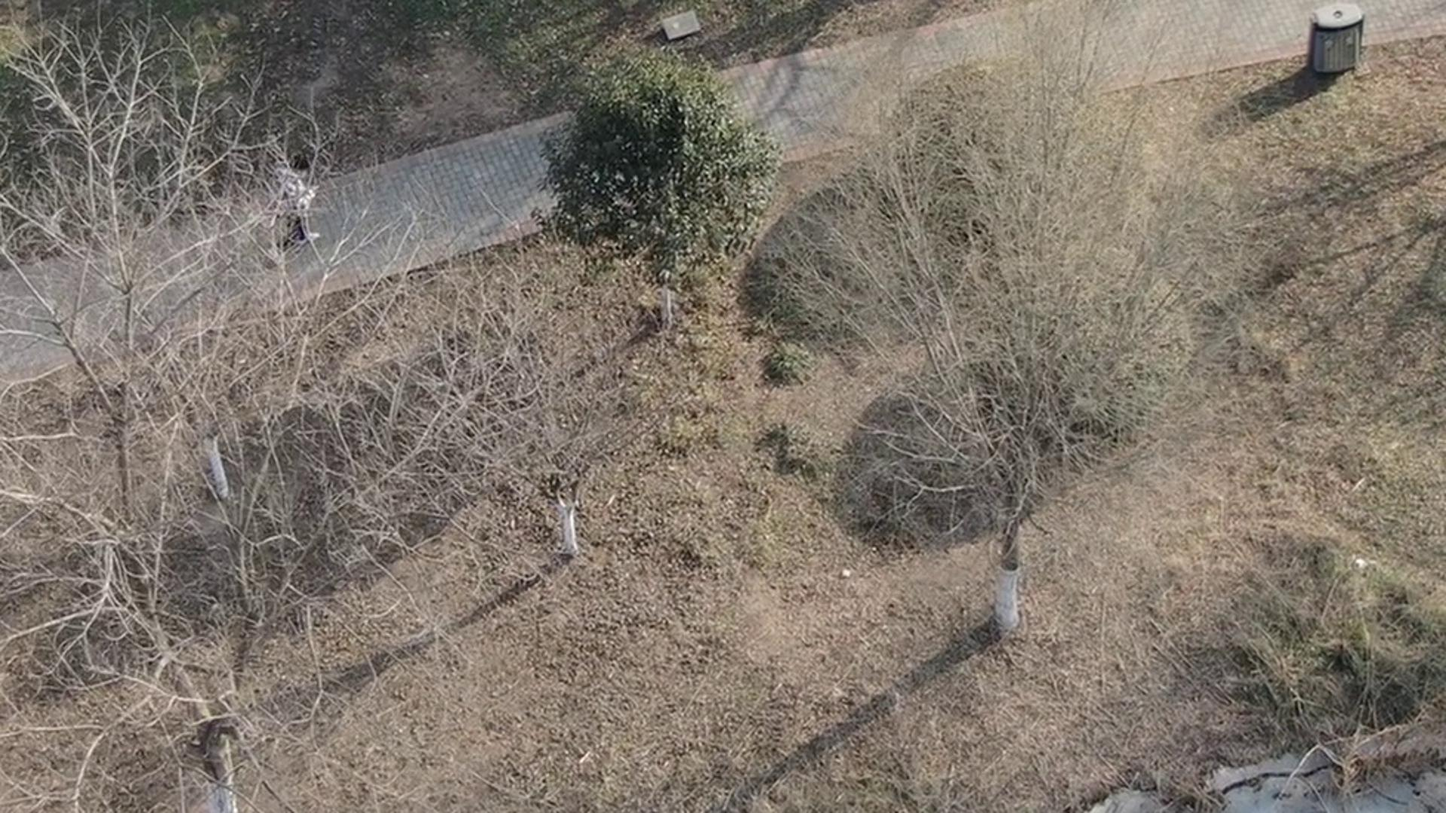human: (285, 162, 337, 268)
